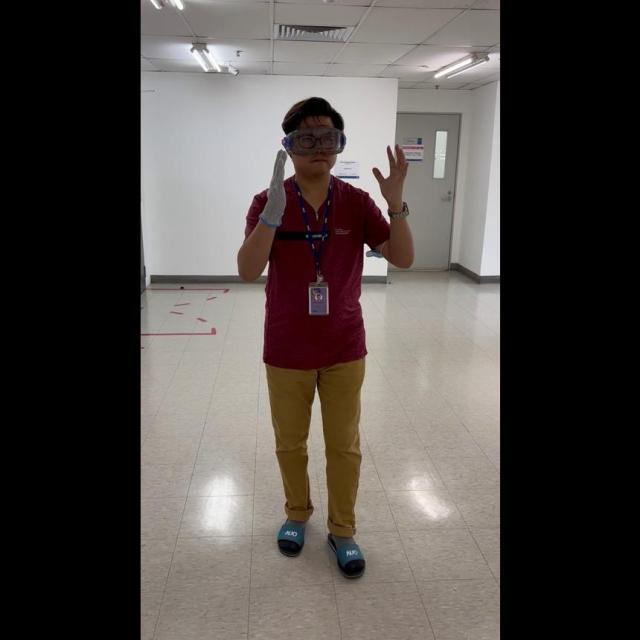bare_hand: (371, 139, 409, 209)
gloved_hand: (259, 147, 289, 226)
